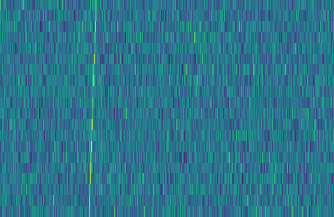signal: (83, 0, 99, 217)
